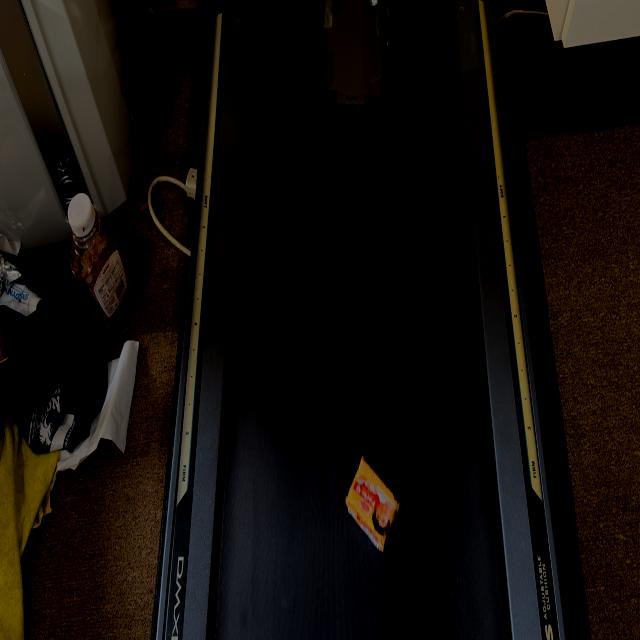Trash: (315, 0, 401, 114), (345, 452, 403, 554)
